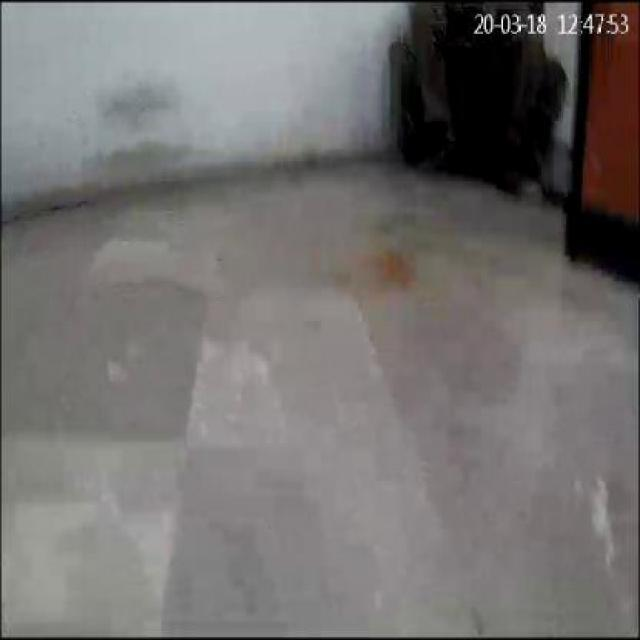spill: (372, 246, 414, 292)
